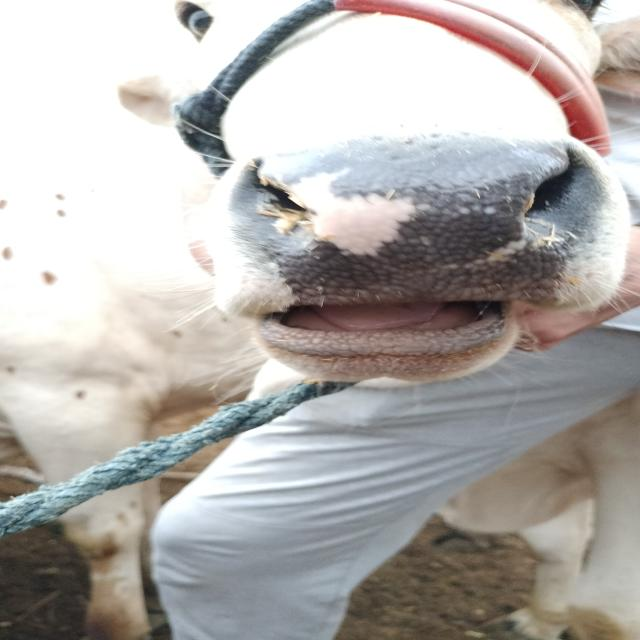muzzles: (236, 140, 602, 327)
